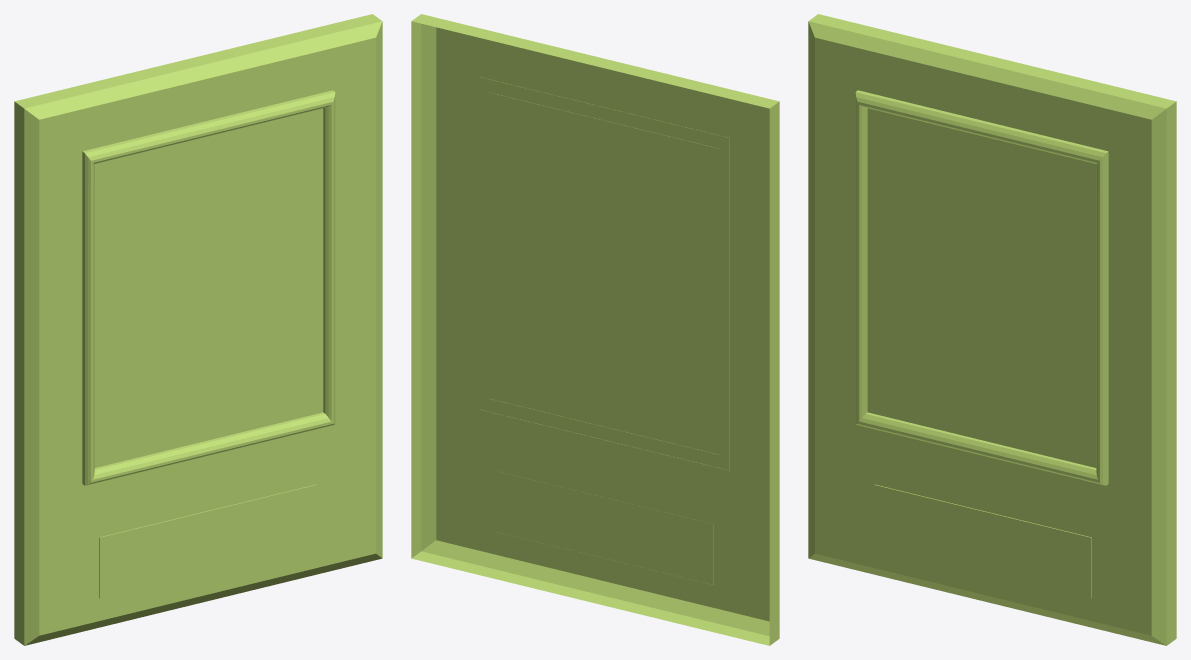
The model's file is Employee of the Month Plaque.fbx.
3 renders of one model, left to right at view 1: azimuth 30°, elevation 25°; view 2: azimuth 150°, elevation 25°; view 3: azimuth 330°, elevation 25°, orthographic.
Visible parts, largest first — view 1: Cube.002; view 2: Cube.002; view 3: Cube.002.
Part boxes in pixels (x1=…): Cube.002: x1=14, y1=14, x2=382, y2=645; Cube.002: x1=411, y1=14, x2=779, y2=645; Cube.002: x1=808, y1=14, x2=1176, y2=645.
Size of the model in its own units: 60 by 86 by 5.42.
